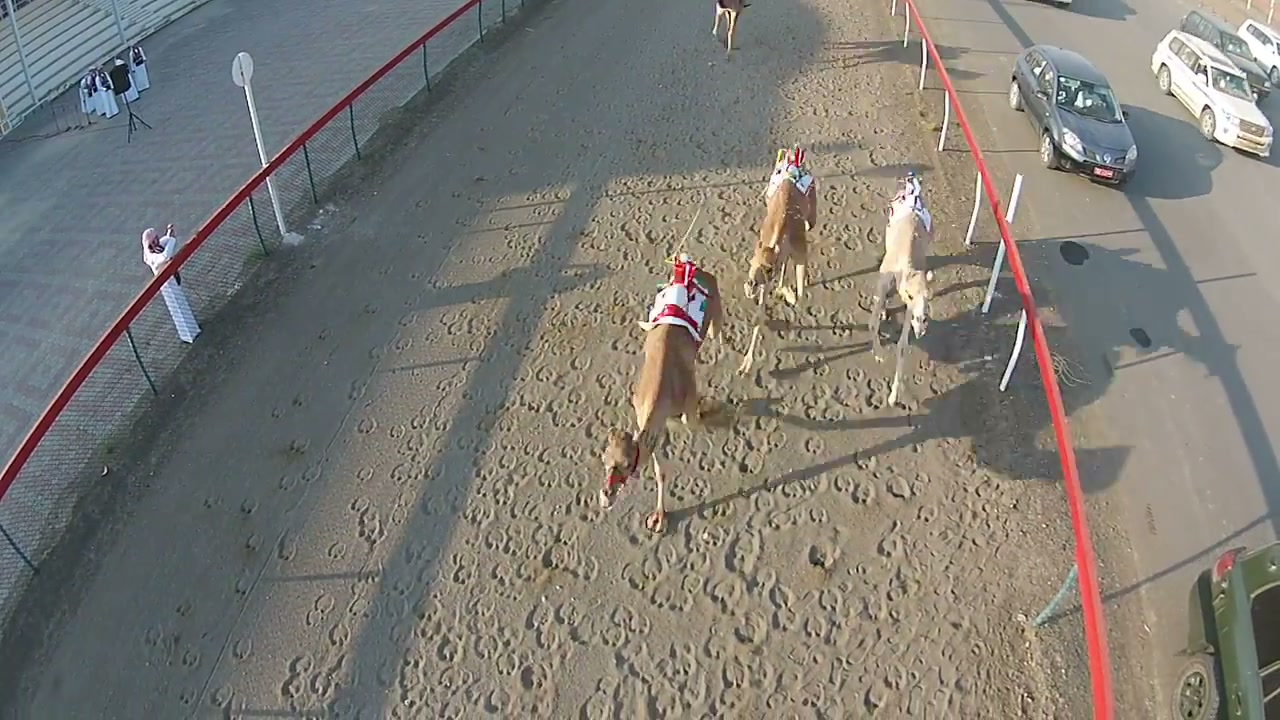animal_footprint: (112, 25, 1086, 717), (724, 531, 761, 576)
